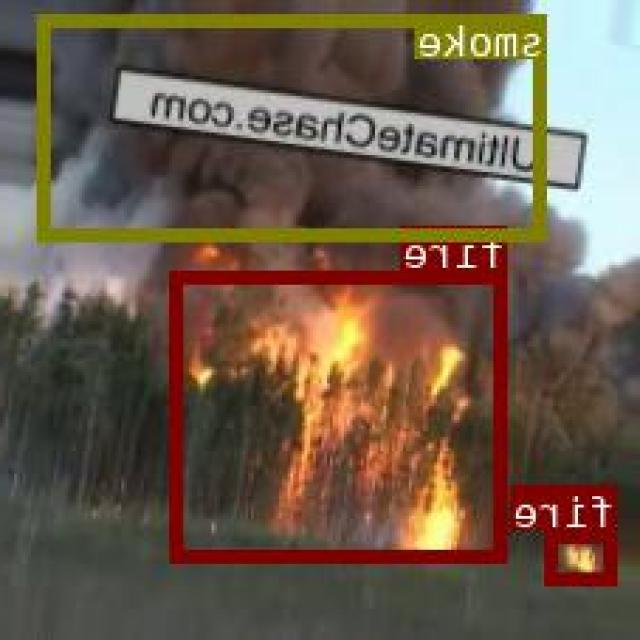fire: (175, 268, 508, 559), (549, 528, 620, 582)
smoke: (40, 12, 547, 240)
